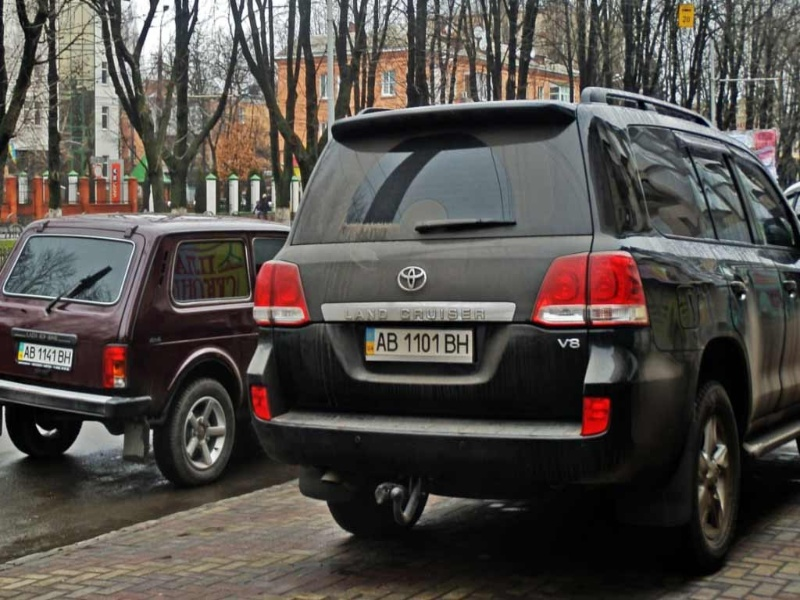car: (246, 87, 800, 565), (1, 215, 290, 485)
plate: (364, 327, 472, 357), (13, 342, 73, 367)
